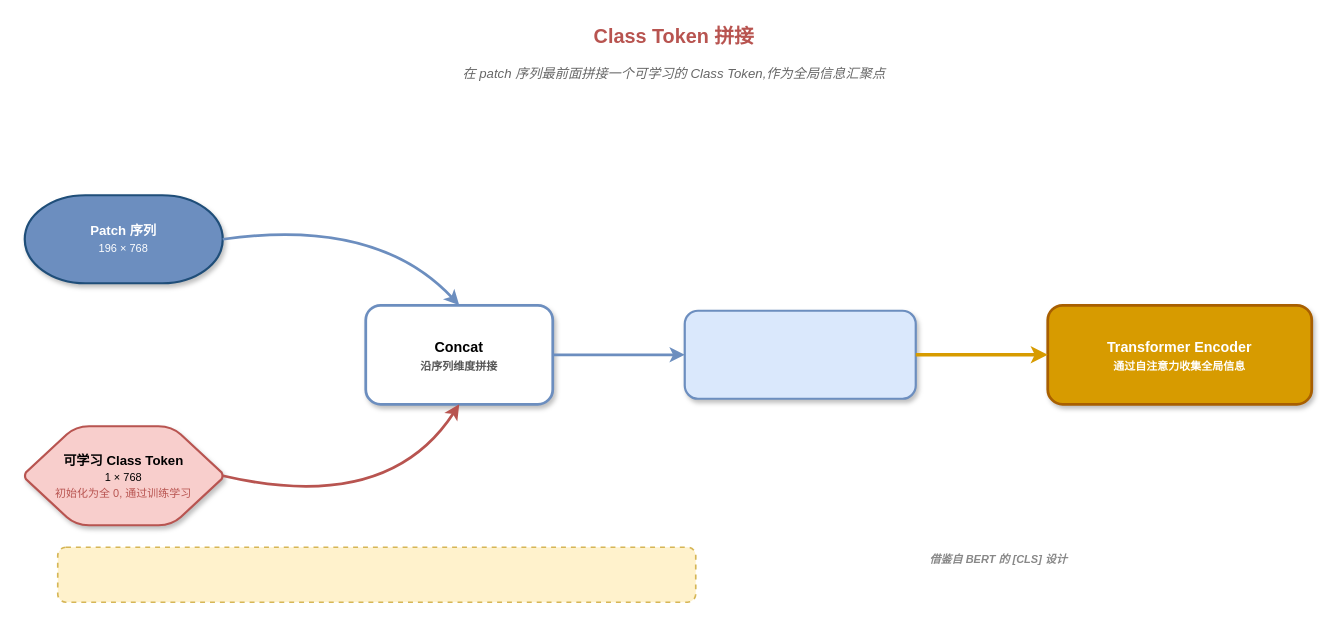
Image size: 1339x622. Some labels were removed from this diagram. Here are the shapes that lost their labels. From the top down, the centre of each, then its label:
At point 801,356: "拼接后序列 197 × 768 Class Token 在第 0 位".
At point 376,574: "关键点 :Class Token 通过自注意力与所有 patch 交互, 最后变成整张图的全局表征 → 切片取 x[:, 0] 做分类".
